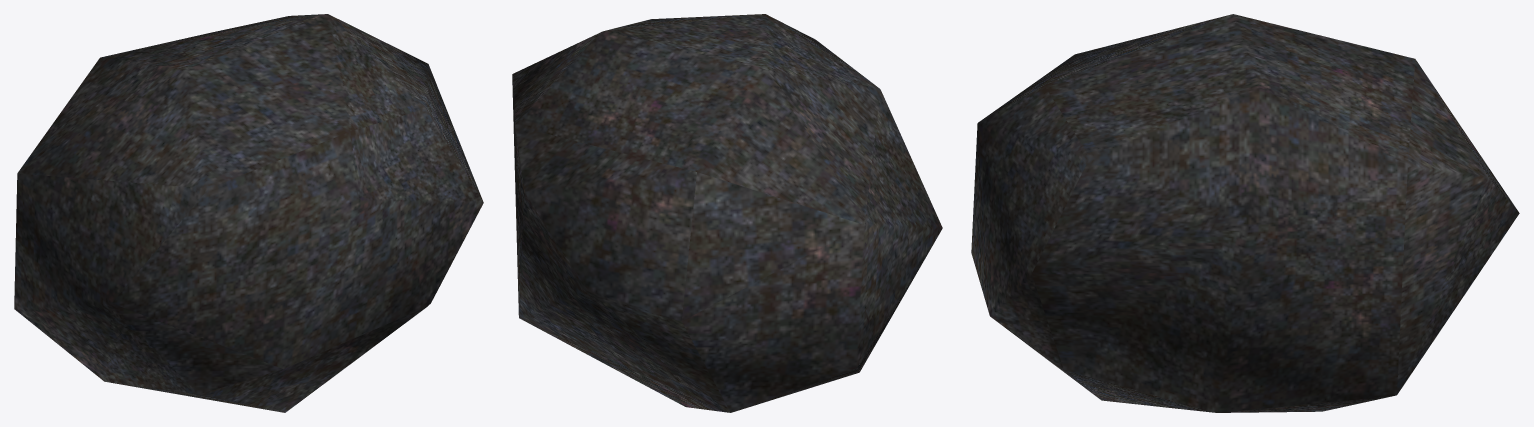
The model's file is asteroid_metal_small_s01_l3.fbx.
The picture shows the model from 3 angles, left to right: view 1: azimuth 30°, elevation 25°; view 2: azimuth 150°, elevation 25°; view 3: azimuth 270°, elevation 25°; orthographic projection. The views are drawn at different scales.
Parts seen in each view (by area): view 1: mesh_node; view 2: mesh_node; view 3: mesh_node.
Boxes of the visible parts, box(x1,y1,x2,y2) form: mesh_node: box(14, 14, 483, 412); mesh_node: box(512, 14, 942, 412); mesh_node: box(971, 14, 1519, 412).
Size of the model in its own units: 24.07 by 19.9 by 25.67.
